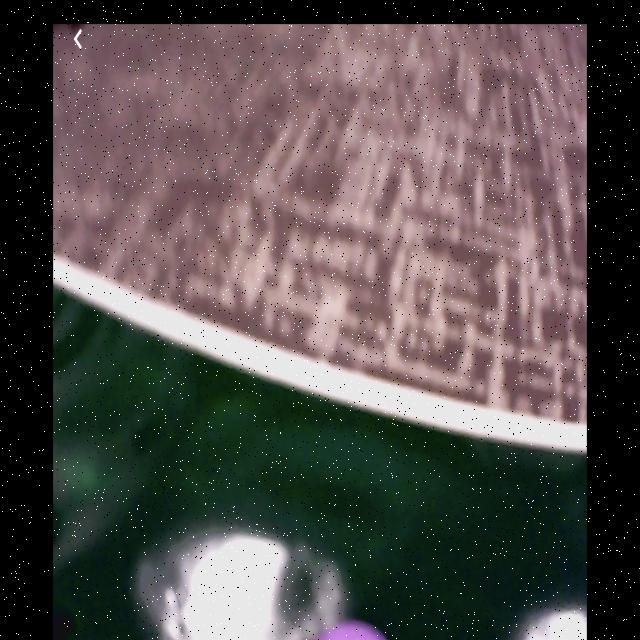ball: (306, 620, 393, 640)
